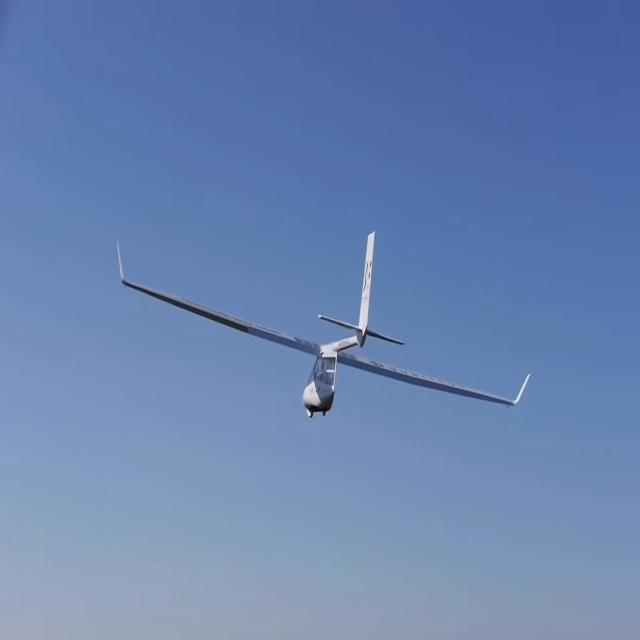iha: (112, 239, 533, 435)
